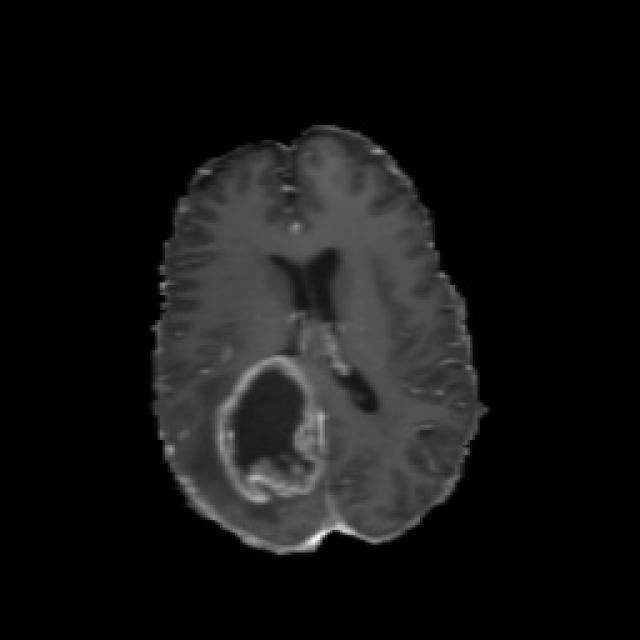negative: (215, 356, 323, 504)
